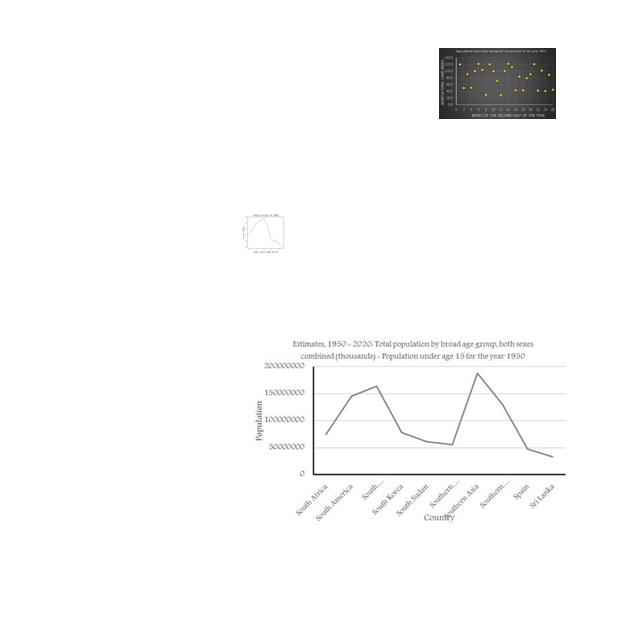Graph: (253, 337, 571, 525), (439, 48, 556, 119), (238, 212, 292, 253)
